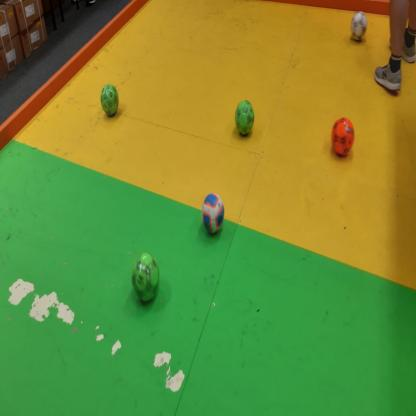ball: (132, 252, 158, 302), (203, 193, 225, 235), (331, 118, 355, 156), (236, 100, 255, 135), (101, 84, 119, 118), (350, 10, 368, 43)
